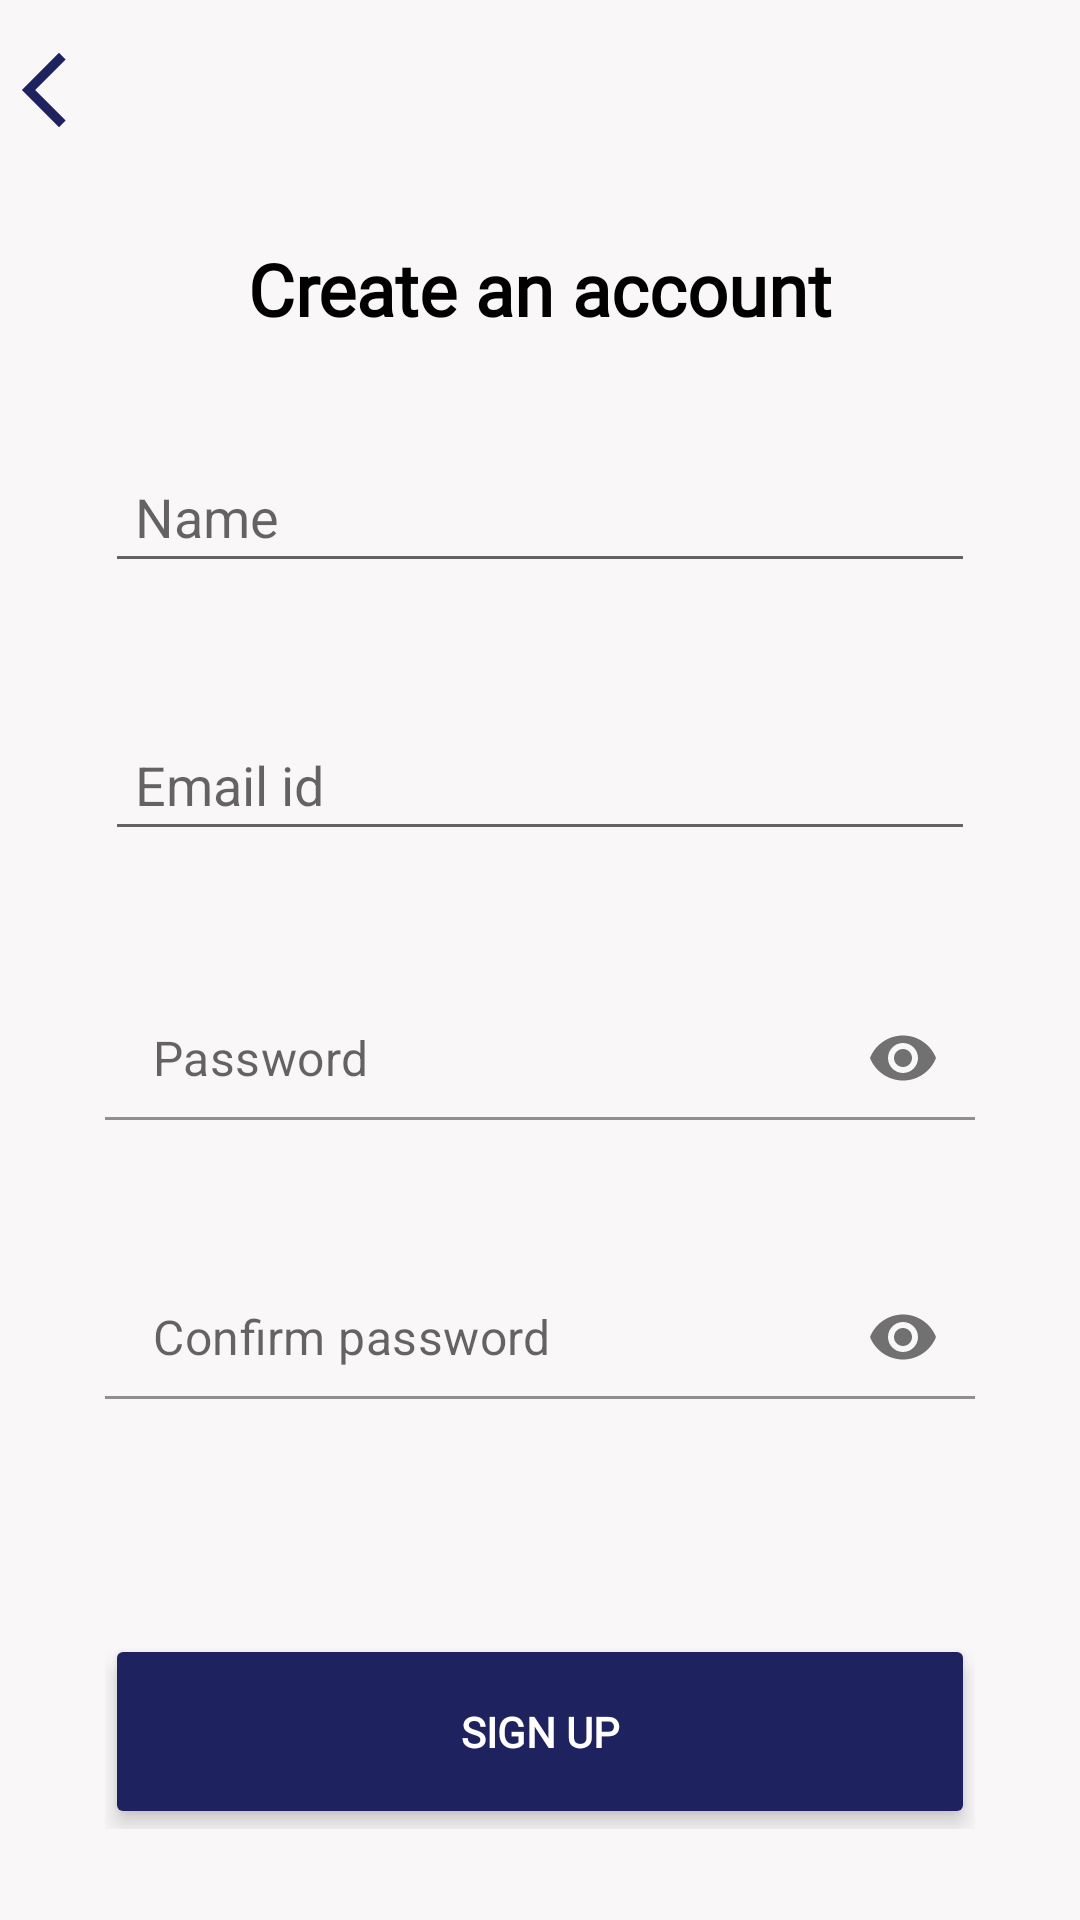

Point at icon controls on the screen. Image size 1080px x 1920px, points as [x,y].
arrow back: [44,90]
